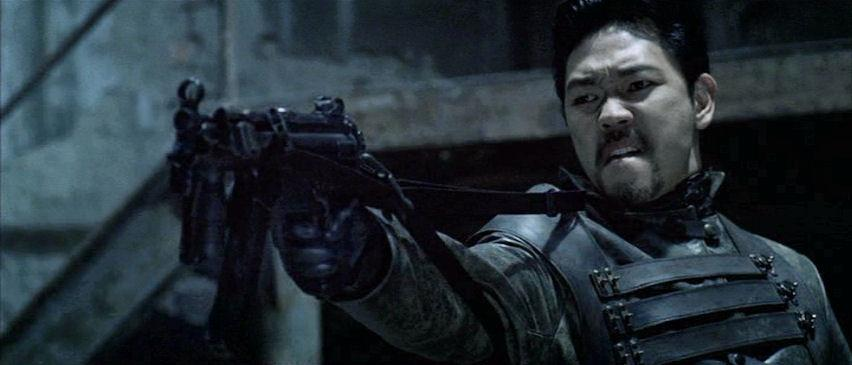gun: (162, 64, 389, 347)
